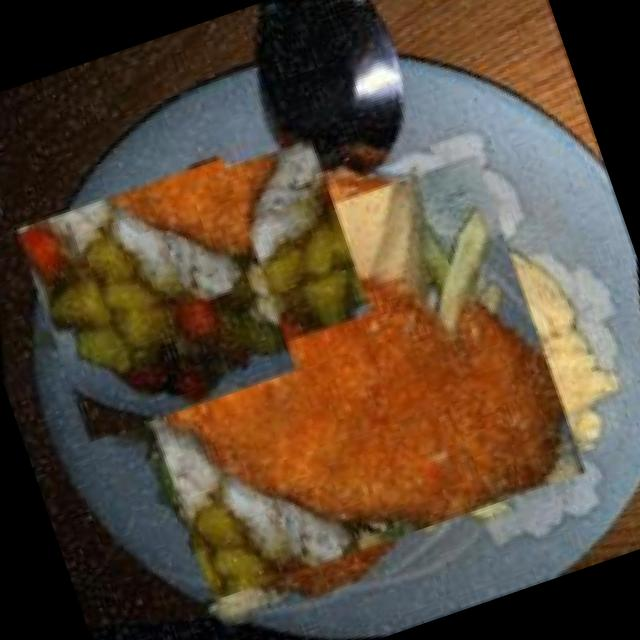curry: (0, 93, 363, 506)
fried_chicken: (1, 34, 640, 640)
rice: (51, 76, 430, 444)
